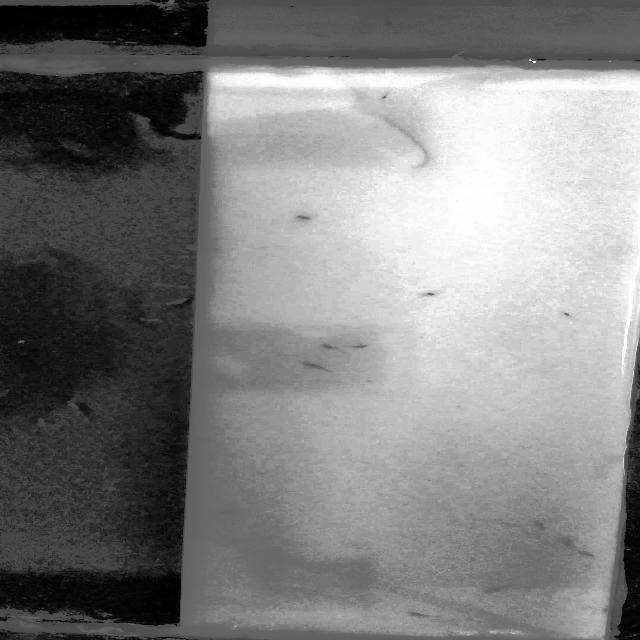shrimp: (528, 517, 560, 537), (309, 336, 343, 352), (293, 213, 334, 226), (550, 308, 583, 324), (480, 581, 508, 598), (348, 339, 383, 352), (402, 606, 430, 622), (296, 358, 332, 370), (419, 286, 443, 301), (584, 548, 598, 559), (192, 434, 208, 442), (564, 538, 576, 548)
